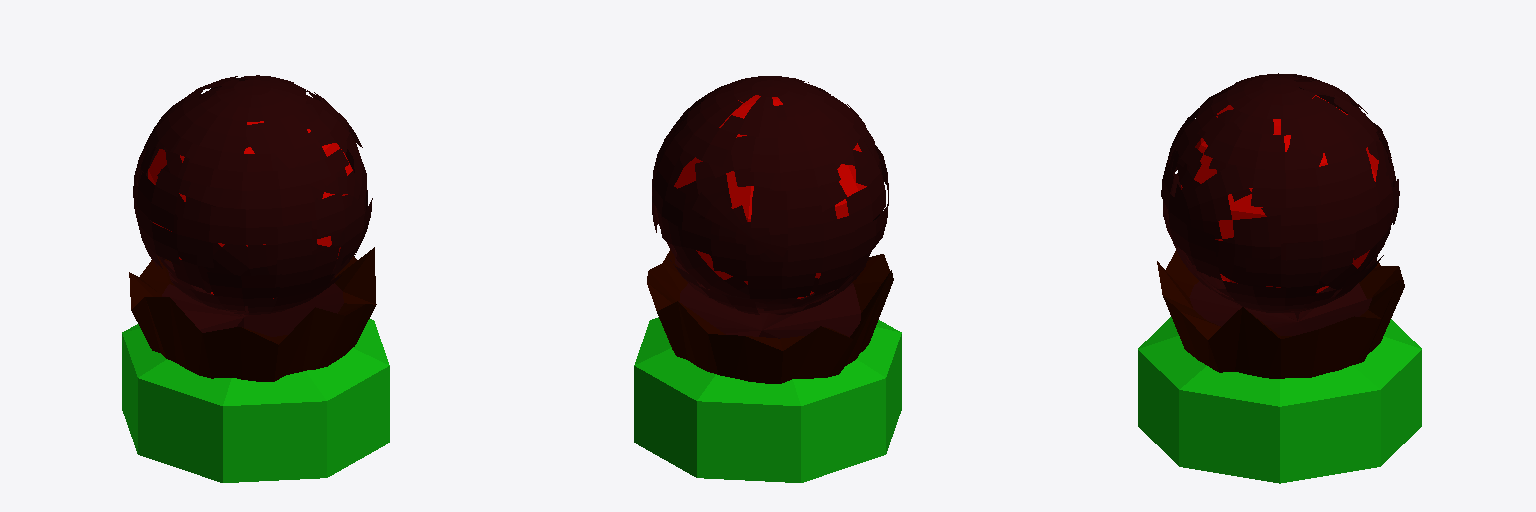
Rendered from Heart.obj.
3 renders of one model, left to right at view 1: azimuth 30°, elevation 25°; view 2: azimuth 150°, elevation 25°; view 3: azimuth 270°, elevation 25°, orthographic.
Visible parts, largest first — view 1: pCylinder2 polySurface2, pSphere3, polySurface1 pCylinder2, pSphere4, pSphere5, pSphere2, pSphere1; view 2: pCylinder2 polySurface2, pSphere3, polySurface1 pCylinder2, pSphere4, pSphere5, pSphere2, pSphere1; view 3: pCylinder2 polySurface2, pSphere3, polySurface1 pCylinder2, pSphere4, pSphere5, pSphere2, pSphere1.
Part boxes in pixels (bbox=[...]): pCylinder2 polySurface2: bbox=[122, 319, 389, 482]; pSphere3: bbox=[133, 75, 372, 314]; polySurface1 pCylinder2: bbox=[129, 247, 376, 381]; pSphere4: bbox=[136, 77, 348, 313]; pSphere5: bbox=[137, 86, 367, 309]; pSphere2: bbox=[146, 86, 354, 307]; pSphere1: bbox=[148, 121, 352, 298]; pCylinder2 polySurface2: bbox=[634, 317, 901, 482]; pSphere3: bbox=[652, 76, 888, 314]; polySurface1 pCylinder2: bbox=[647, 249, 893, 383]; pSphere4: bbox=[652, 81, 885, 313]; pSphere5: bbox=[657, 109, 885, 310]; pSphere2: bbox=[667, 105, 880, 308]; pSphere1: bbox=[674, 95, 866, 298]; pCylinder2 polySurface2: bbox=[1138, 317, 1421, 483]; pSphere3: bbox=[1161, 73, 1391, 312]; polySurface1 pCylinder2: bbox=[1157, 250, 1404, 378]; pSphere4: bbox=[1163, 75, 1399, 311]; pSphere5: bbox=[1166, 79, 1395, 297]; pSphere2: bbox=[1170, 87, 1393, 293]; pSphere1: bbox=[1181, 95, 1378, 292].
Bounding box in the file's own units: 14.86 × 20.44 × 15.51.